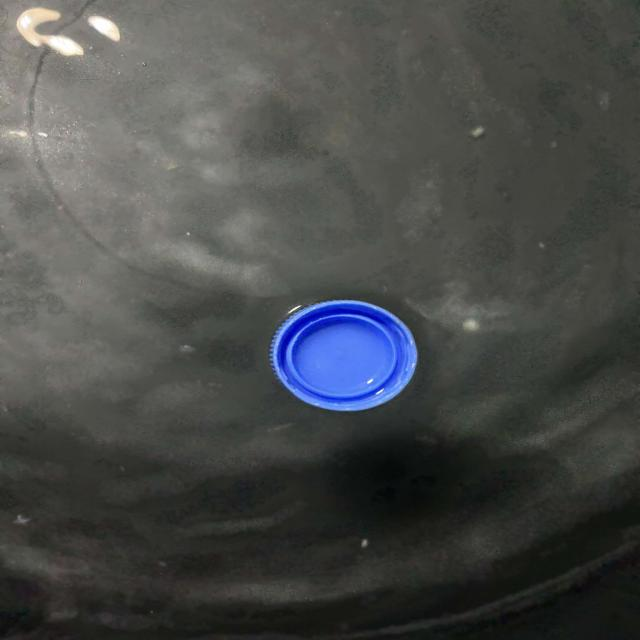Bottle Lid: (270, 300, 417, 411)
